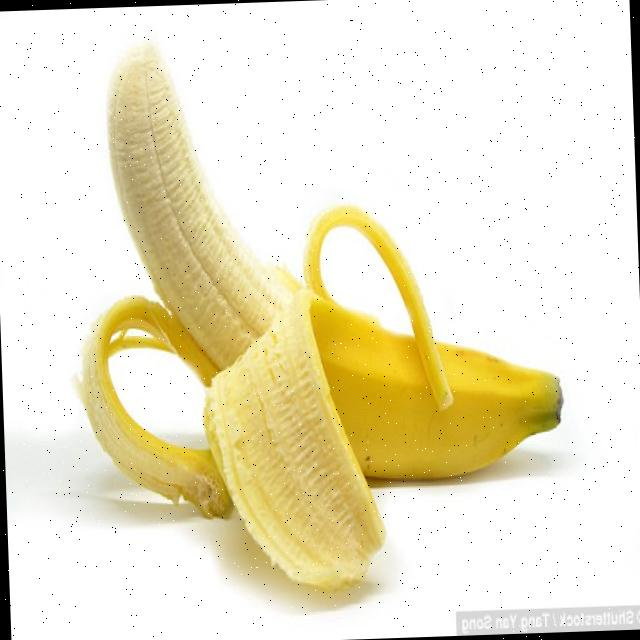Pisang: (62, 24, 570, 598)
